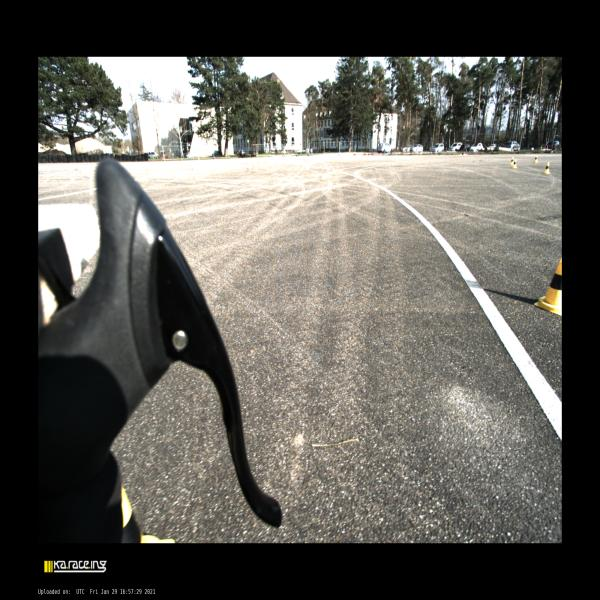yellow_cone: (534, 259, 562, 316), (543, 162, 550, 174), (512, 160, 517, 168), (534, 155, 538, 163), (510, 157, 514, 165)
